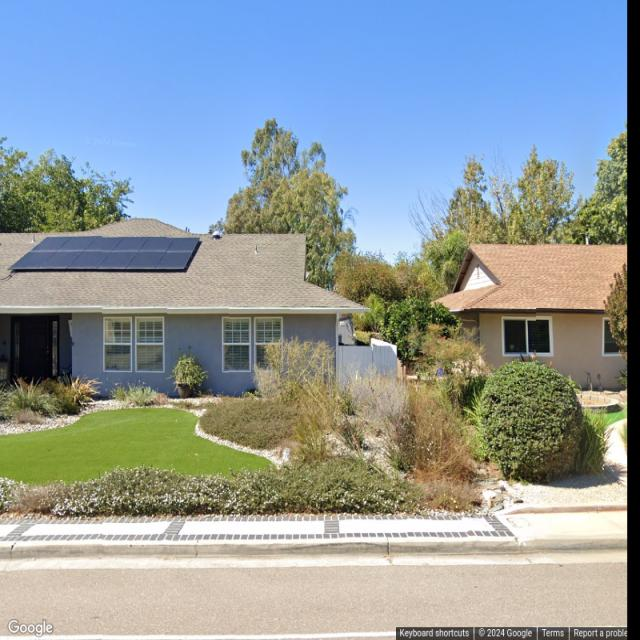House: (0, 216, 401, 398), (429, 242, 626, 390)
